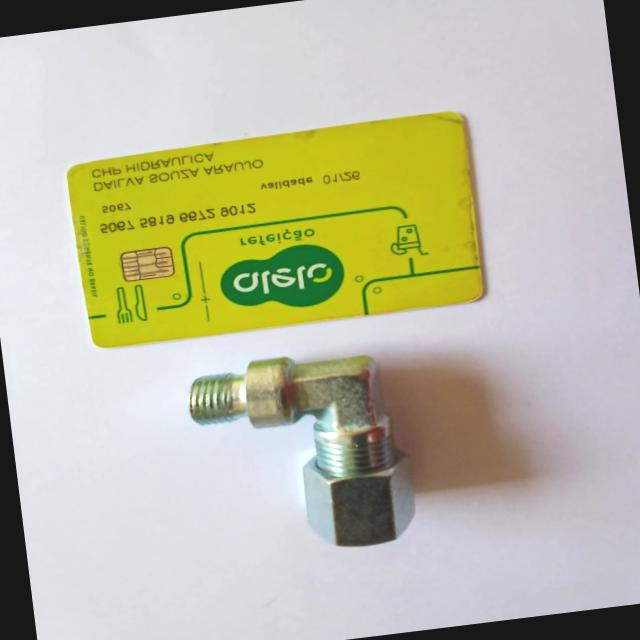cartao: (64, 110, 484, 349)
rosca_externa: (184, 344, 420, 566)
